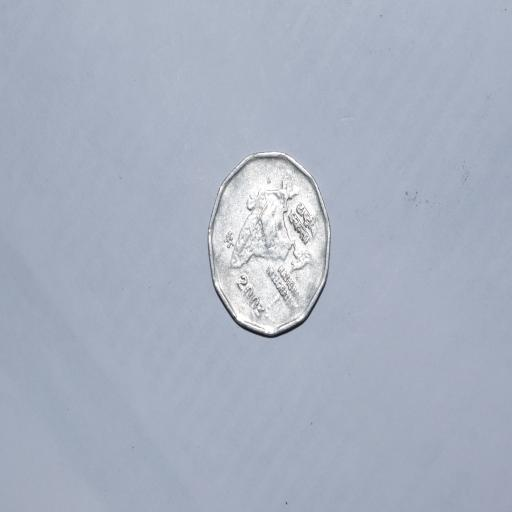rupee2: (201, 146, 332, 340)
